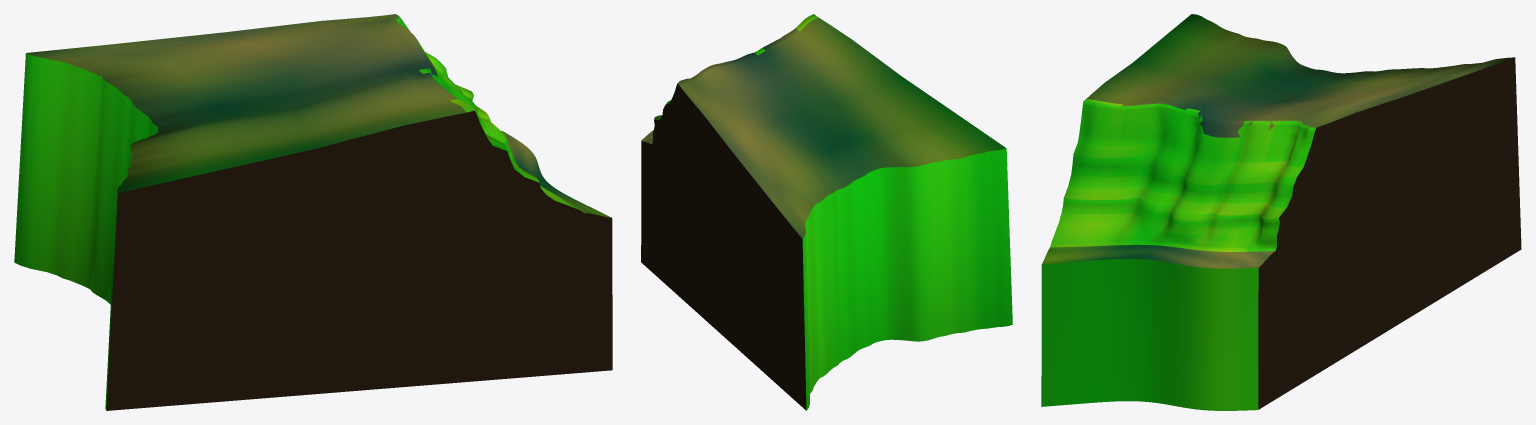
The model's file is SM_ForestRisingCliffs_09.fbx.
3 renders of one model, left to right at view 1: azimuth 30°, elevation 25°; view 2: azimuth 150°, elevation 25°; view 3: azimuth 270°, elevation 25°, orthographic. The views are drawn at different scales.
Visible parts, largest first — view 1: SM_ForestRisingCliffs_09; view 2: SM_ForestRisingCliffs_09; view 3: SM_ForestRisingCliffs_09.
Part boxes in pixels (<box>): SM_ForestRisingCliffs_09: <box>14,14,612,410</box>; SM_ForestRisingCliffs_09: <box>641,14,1012,410</box>; SM_ForestRisingCliffs_09: <box>1041,14,1521,410</box>.
Bounding box in the file's own units: 73.07 × 75.27 × 43.86.
